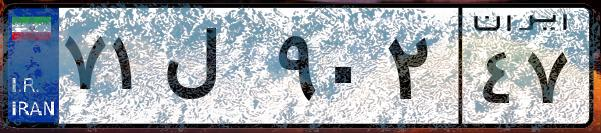0: (330, 28, 385, 110)
1: (110, 28, 158, 98)
2: (385, 28, 445, 110)
4: (475, 38, 525, 113)
7: (57, 26, 110, 100), (525, 38, 570, 115)
9: (270, 28, 330, 110)
ل: (158, 20, 270, 120)
